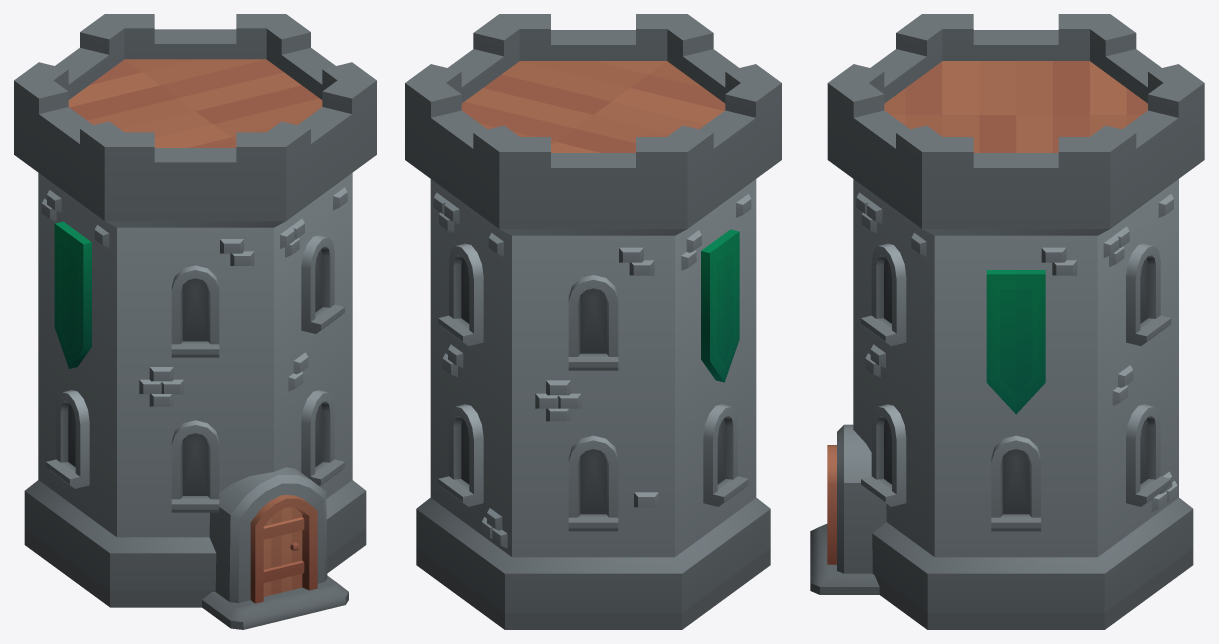
File: building_tower_base_green.glb
3 renders of one model, left to right at view 1: azimuth 30°, elevation 25°; view 2: azimuth 150°, elevation 25°; view 3: azimuth 270°, elevation 25°, orthographic. The views are drawn at different scales.
Visible parts, largest first — view 1: building_tower_base_green; view 2: building_tower_base_green; view 3: building_tower_base_green.
Boxes of the visible parts, left/top/right/bottom form: building_tower_base_green: left=14, top=14, right=376, bottom=629; building_tower_base_green: left=405, top=14, right=781, bottom=629; building_tower_base_green: left=810, top=14, right=1204, bottom=629.
Bounding box in the file's own units: 0.9298 × 1.5 × 1.11.
Materials: 1 (1 with a texture image).
